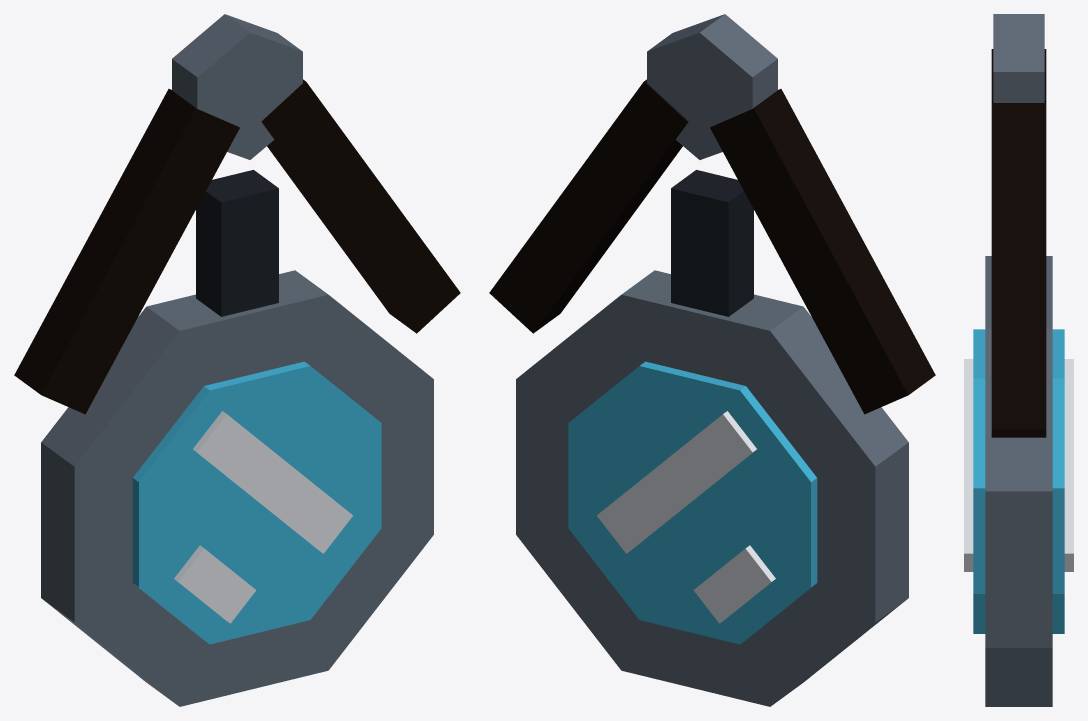
Rendered from AmuletoReflejo_low.fbx.
3 renders of one model, left to right at view 1: azimuth 30°, elevation 25°; view 2: azimuth 150°, elevation 25°; view 3: azimuth 270°, elevation 25°, orthographic.
Parts seen in each view (by area): view 1: AmuletoReflejo_low; view 2: AmuletoReflejo_low; view 3: AmuletoReflejo_low.
Boxes of the visible parts, <box> form: AmuletoReflejo_low: <box>14,14,460,706</box>; AmuletoReflejo_low: <box>489,14,935,706</box>; AmuletoReflejo_low: <box>964,14,1073,706</box>.
Size of the model in its own units: 39.9 by 59.39 by 9.
